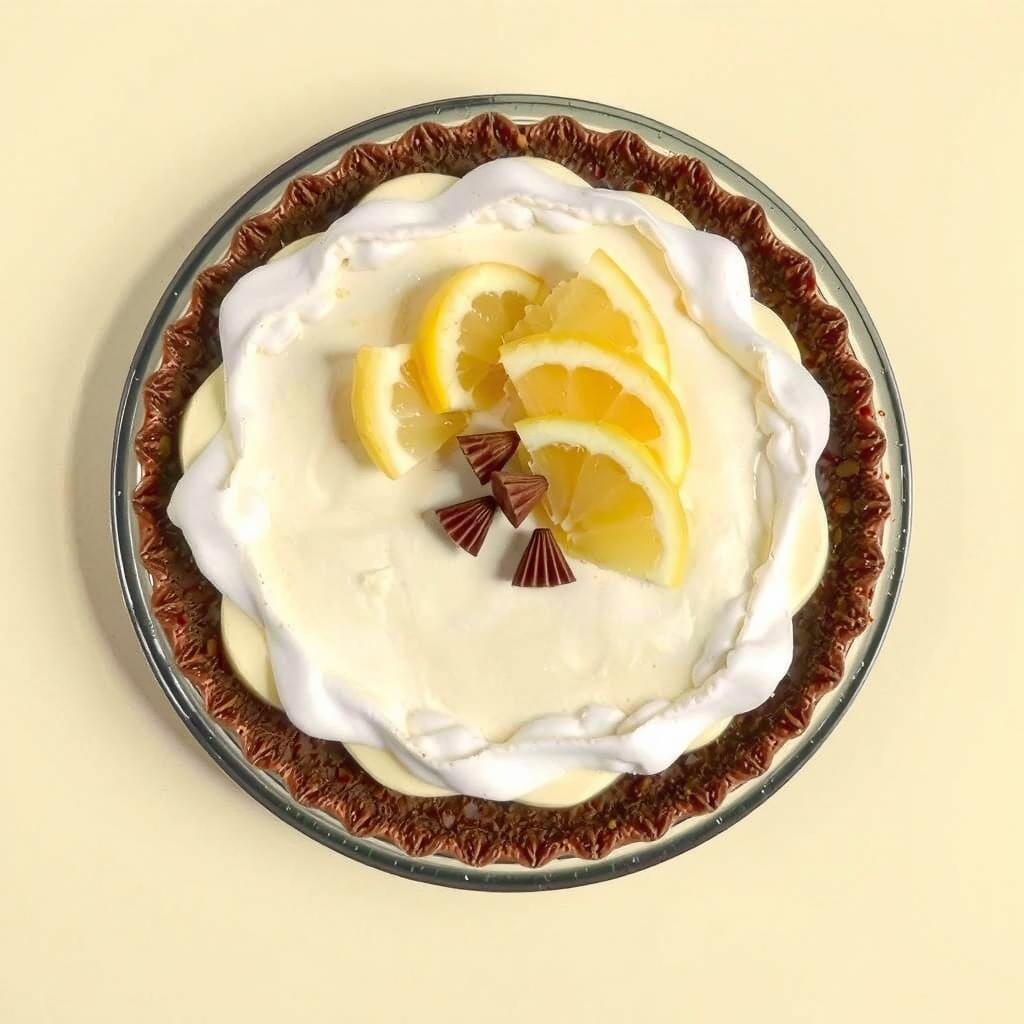pie: (129, 110, 901, 883)
